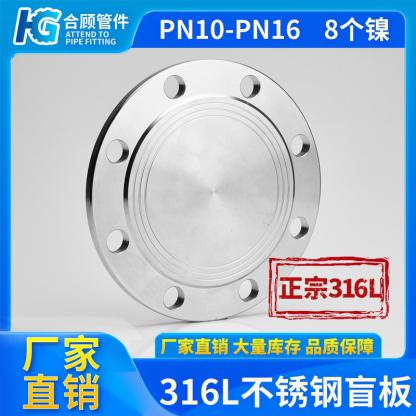FOD: (82, 57, 326, 323)
